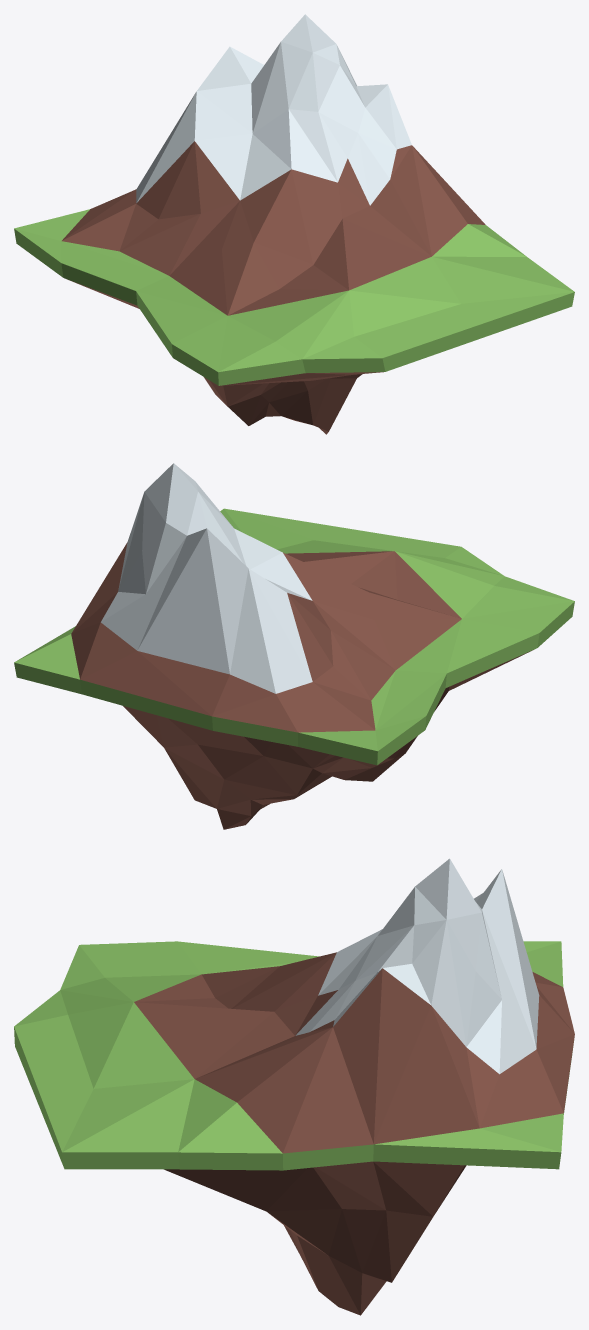
File: Island13.fbx
3 views of the same model, one above another, from view 1: azimuth 30°, elevation 25°; view 2: azimuth 150°, elevation 25°; view 3: azimuth 270°, elevation 25° (orthographic). The views are drawn at different scales.
Visible parts, largest first — view 1: Island13; view 2: Island13; view 3: Island13.
Part boxes in pixels (left/top/right/bottom): Island13: left=14, top=14, right=574, bottom=434; Island13: left=14, top=463, right=574, bottom=829; Island13: left=14, top=858, right=574, bottom=1315.
Size of the model in its own units: 4.74 by 4.84 by 5.3.
